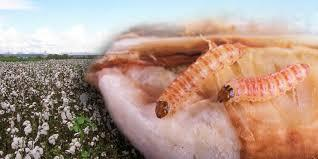insect: (153, 36, 254, 119), (214, 59, 313, 108)
